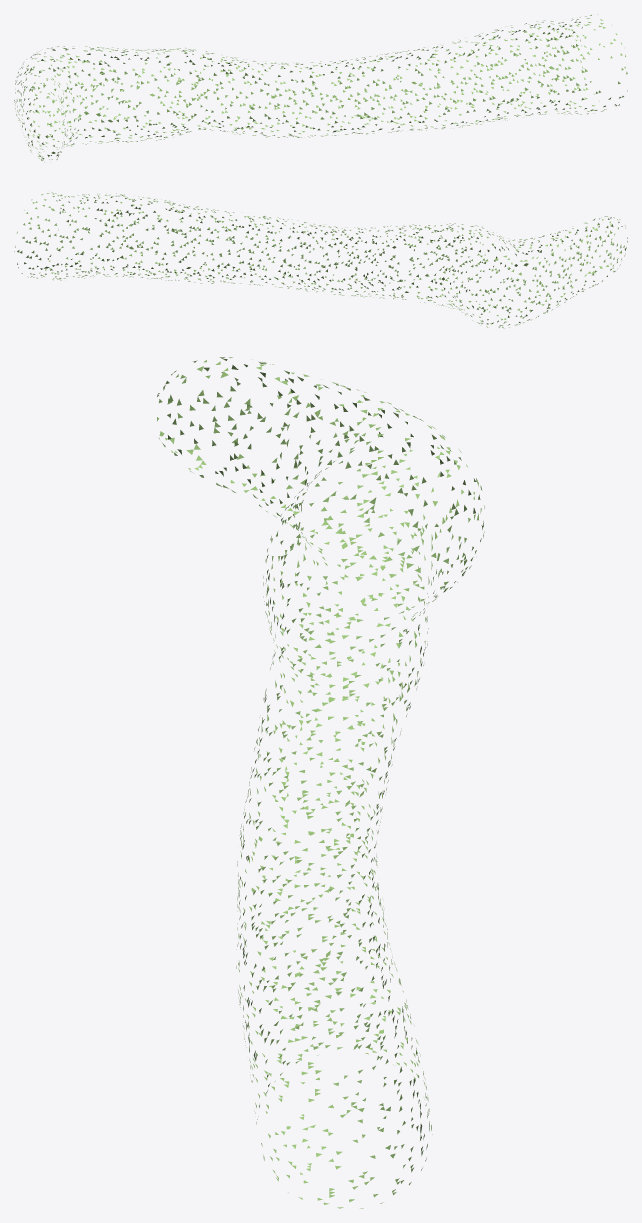
Rendered from morph_013.glb.
3 views of the same model, one above another, from view 1: azimuth 30°, elevation 25°; view 2: azimuth 150°, elevation 25°; view 3: azimuth 270°, elevation 25° (orthographic). The views are drawn at different scales.
Size of the model in its own units: 136 by 38.88 by 35.25.
